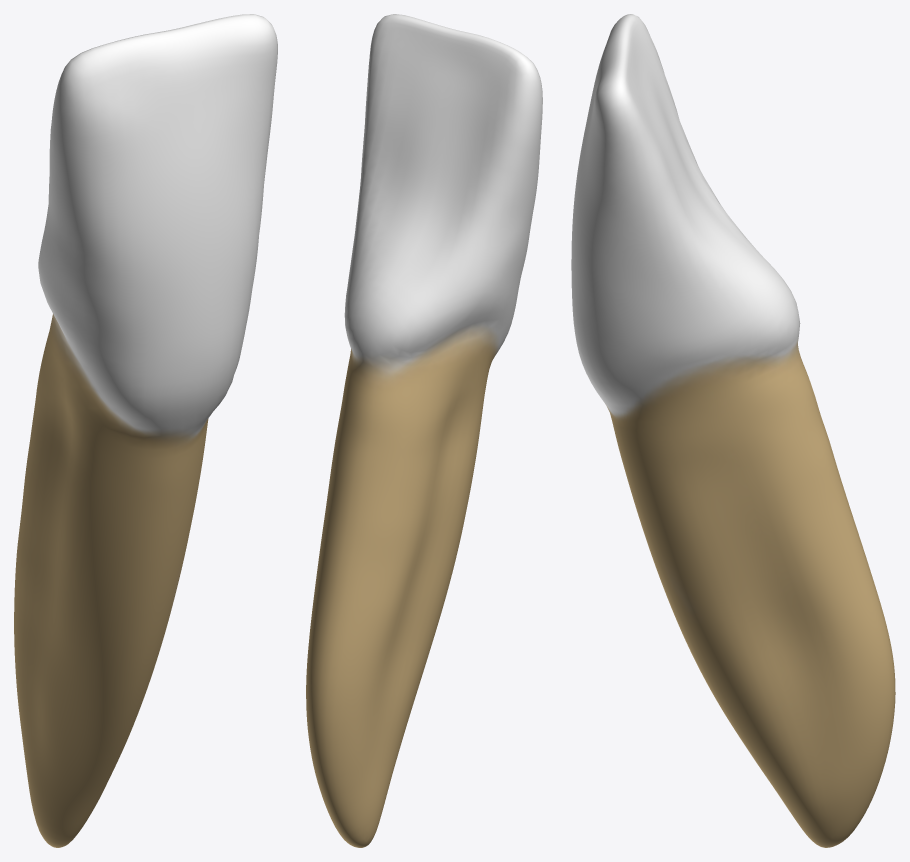
3 renders of one model, left to right at view 1: azimuth 30°, elevation 25°; view 2: azimuth 150°, elevation 25°; view 3: azimuth 270°, elevation 25°, orthographic. The views are drawn at different scales.
Visible parts, largest first — view 1: outer; view 2: outer; view 3: outer.
Boxes of the visible parts, bbox=[...] form: outer: bbox=[14, 14, 277, 847]; outer: bbox=[306, 14, 542, 847]; outer: bbox=[571, 14, 895, 847].
Bounding box in the file's own units: 2.02 × 8.34 × 3.05.
Materials: 3 (1 with a texture image).
